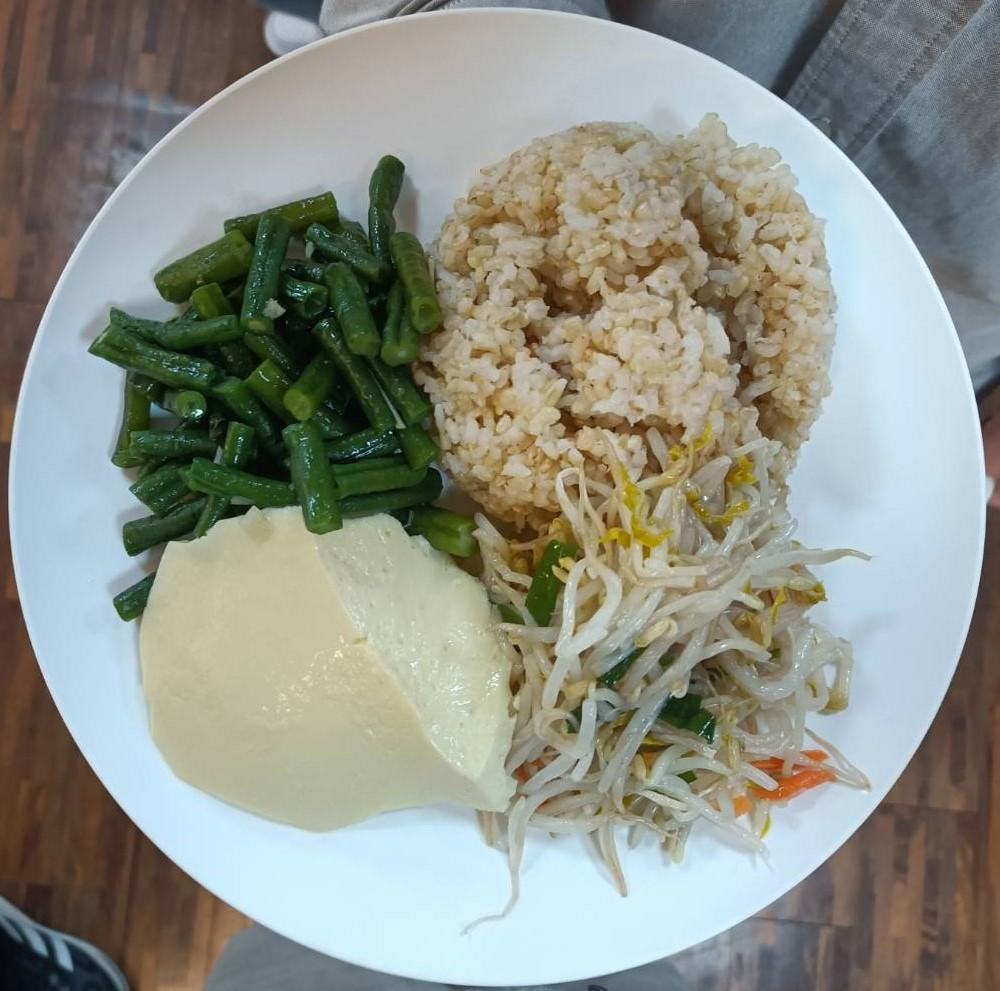big fried chicken leg: (18, 18, 1000, 970)
box: (424, 111, 840, 522)
braised fish fillet: (503, 454, 848, 859), (111, 154, 444, 546), (143, 514, 500, 824)
